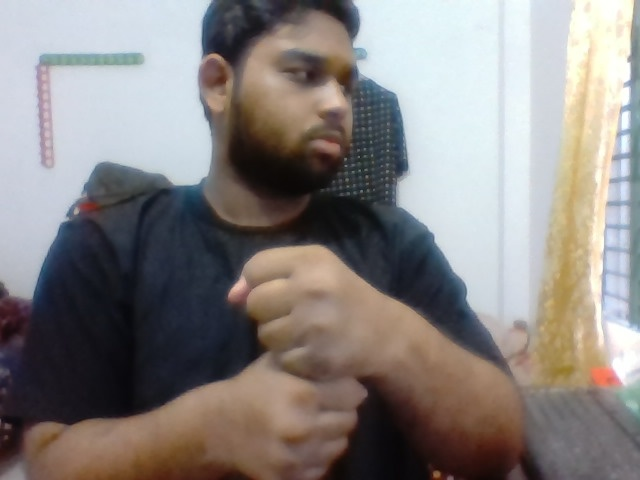G: (210, 233, 381, 480)
